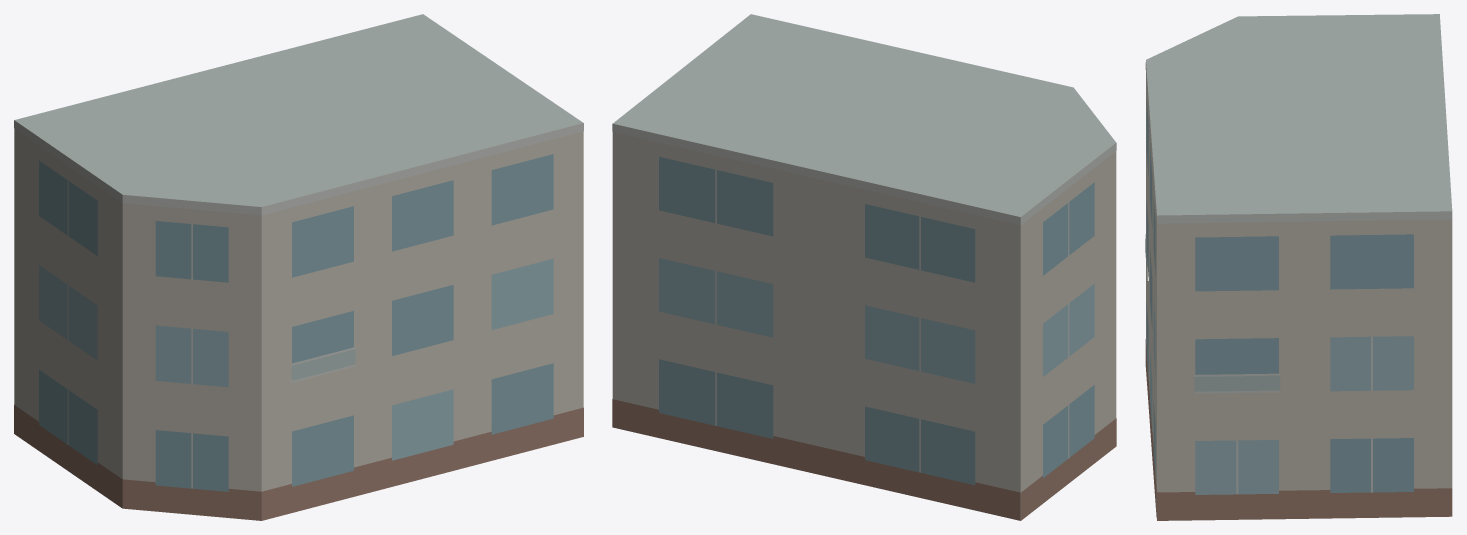
The model's file is survey-upis-32706511.glb.
The picture shows the model from 3 angles, left to right: view 1: azimuth 30°, elevation 25°; view 2: azimuth 150°, elevation 25°; view 3: azimuth 270°, elevation 25°; orthographic projection. The views are drawn at different scales.
Visible parts, largest first — view 1: survey-upis-32706511.tmp; view 2: survey-upis-32706511.tmp; view 3: survey-upis-32706511.tmp.
Part boxes in pixels (x1=…): survey-upis-32706511.tmp: x1=14, y1=14, x2=583, y2=520; survey-upis-32706511.tmp: x1=612, y1=14, x2=1116, y2=520; survey-upis-32706511.tmp: x1=1145, y1=14, x2=1452, y2=520.
Bounding box in the file's own units: 12.96 × 9.15 × 8.34.
